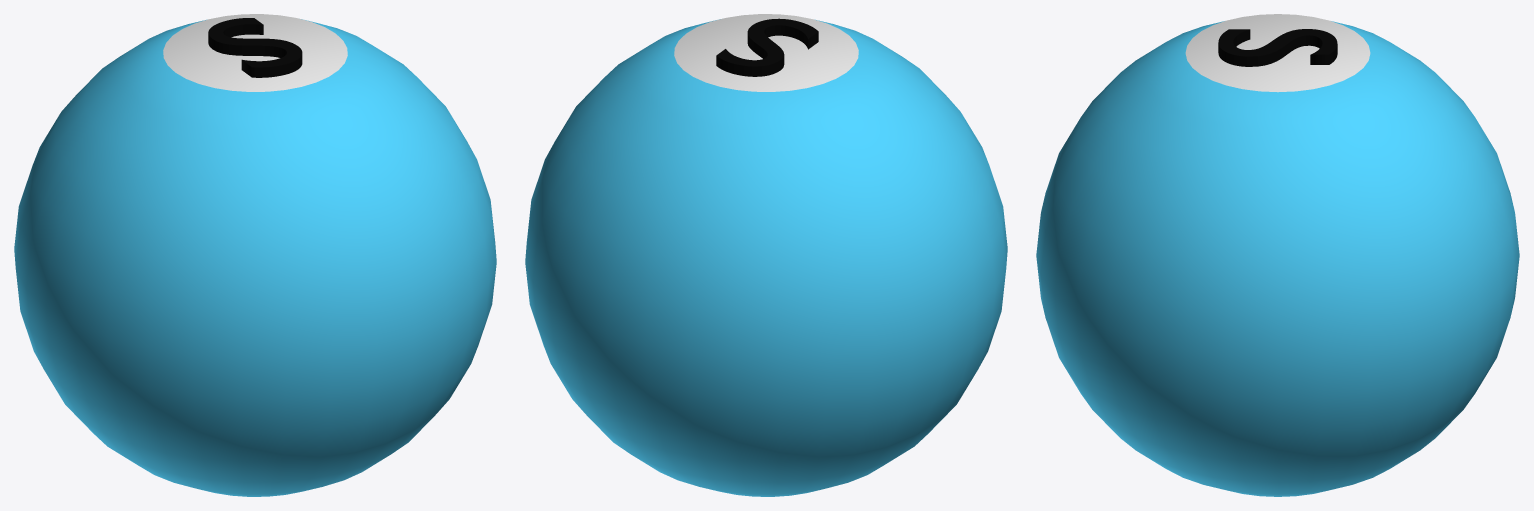
File: start_portal.glb
3 renders of one model, left to right at view 1: azimuth 30°, elevation 25°; view 2: azimuth 150°, elevation 25°; view 3: azimuth 270°, elevation 25°, orthographic.
Visible parts, largest first — view 1: Sphere.001, Text.001; view 2: Sphere.001, Text.001; view 3: Sphere.001, Text.001.
Boxes of the visible parts, bbox=[...] form: Sphere.001: bbox=[14, 14, 496, 496]; Text.001: bbox=[208, 18, 302, 77]; Sphere.001: bbox=[525, 14, 1007, 496]; Text.001: bbox=[716, 18, 818, 76]; Sphere.001: bbox=[1036, 14, 1519, 496]; Text.001: bbox=[1218, 29, 1337, 66].
Size of the model in its own units: 2 by 1.97 by 2.
